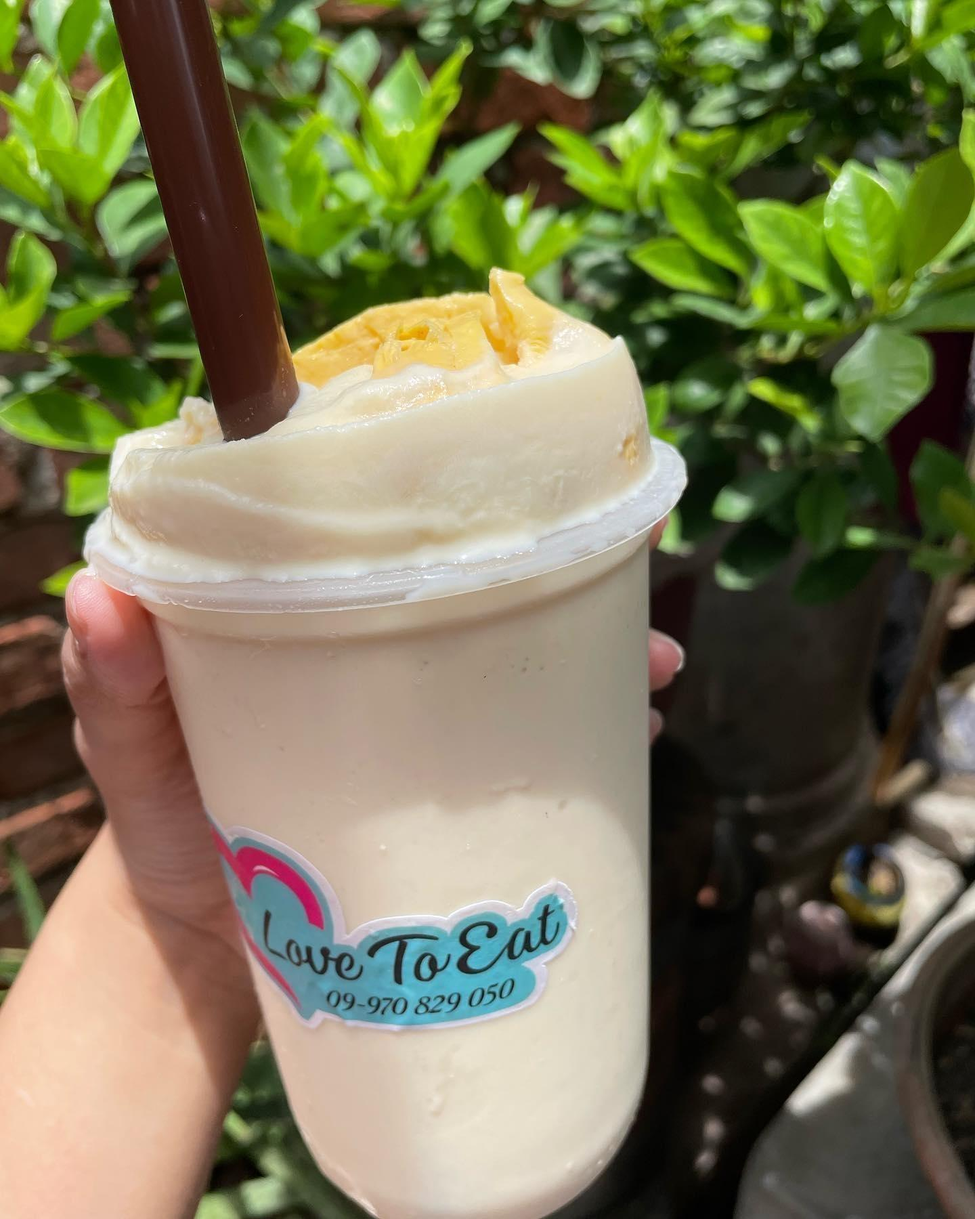cup-disposable: (87, 278, 699, 1219)
